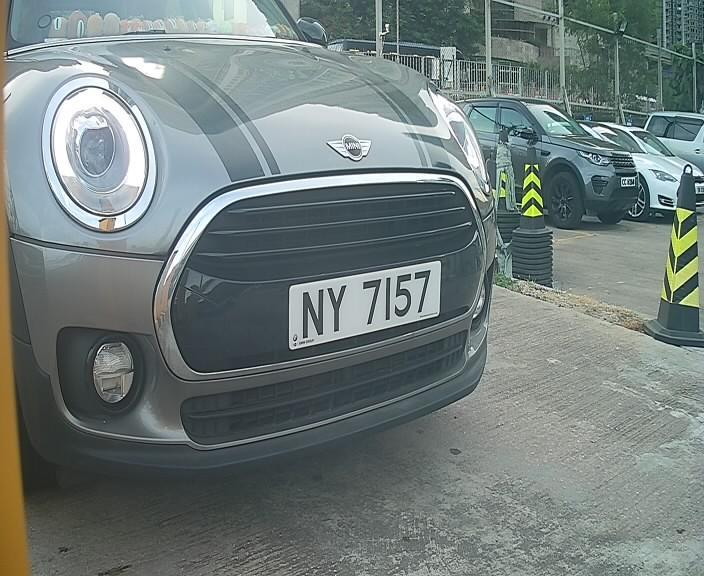privatecar: (16, 21, 525, 492)
